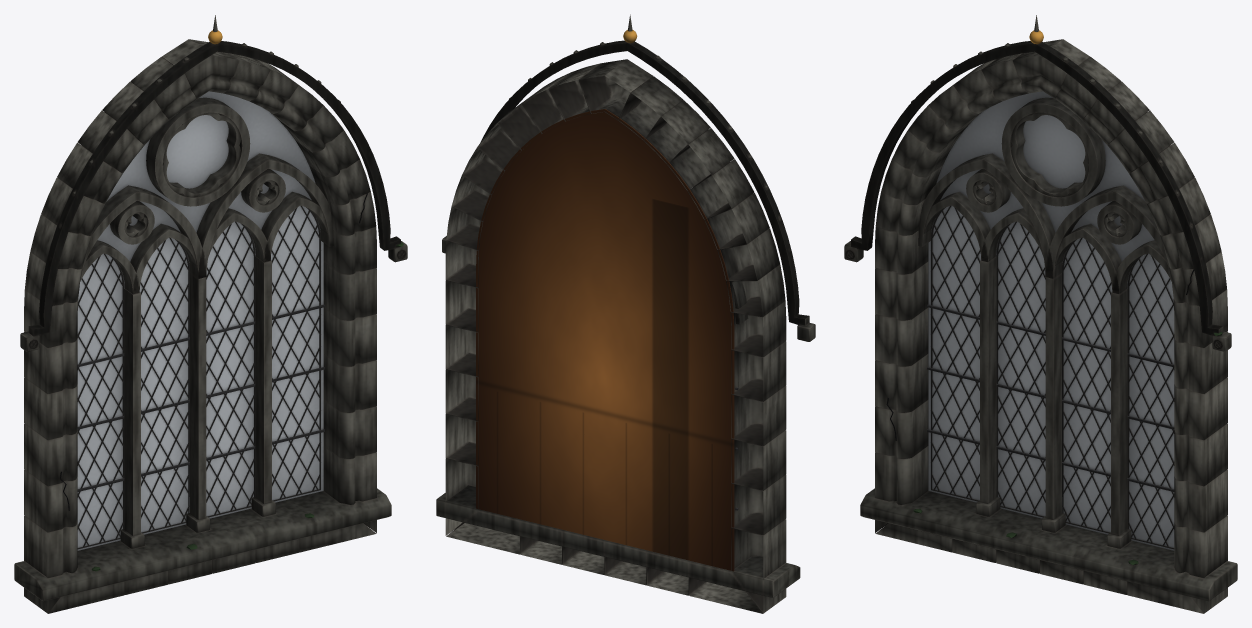
File: TraceryWindowClear.fbx
The picture shows the model from 3 angles, left to right: view 1: azimuth 30°, elevation 25°; view 2: azimuth 150°, elevation 25°; view 3: azimuth 330°, elevation 25°; orthographic projection. The views are drawn at different scales.
Visible parts, largest first — view 1: TraceryWindowClear_Main, TraceryWindowClear_Glass; view 2: TraceryWindowClear_Room, TraceryWindowClear_Main; view 3: TraceryWindowClear_Main, TraceryWindowClear_Glass.
Part boxes in pixels (box(x1,y1,x2,y2)): TraceryWindowClear_Main: box(14, 15, 407, 613); TraceryWindowClear_Glass: box(77, 91, 323, 550); TraceryWindowClear_Room: box(476, 109, 734, 571); TraceryWindowClear_Main: box(436, 14, 815, 613); TraceryWindowClear_Main: box(844, 15, 1237, 613); TraceryWindowClear_Glass: box(928, 91, 1174, 550).
Size of the model in its own units: 960 by 1352 by 132.
